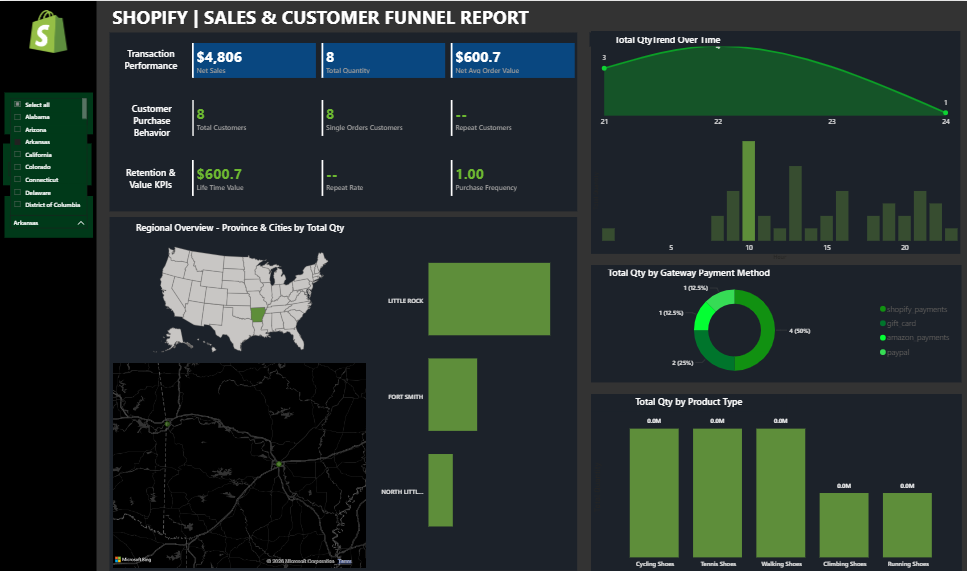

This screenshot's page, from the dashboard's own definition file:
{"tool":"powerbi","page":{"name":"Shopify Anylsis","canvas":[1700,1000],"ordinal":0},"visuals":[{"type":"shape","box":[193.2,379.5,820.5,620.5],"z":0},{"type":"shape","box":[0,0,169.6,1000],"z":1000},{"type":"textbox","box":[193.1,0,751.7,55.2],"z":2000},{"type":"shape","box":[193.1,55.2,820.7,313.8],"z":3000},{"type":"cardVisual","fields":{"Data":["shopify_sales.Net Sales","shopify_sales.Total Quantity","shopify_sales.Net Avg Order Value"]},"box":[336.4,72.7,677.3,61.4],"z":4000},{"type":"card","fields":{"Values":["shopify_sales.Transaction Performance"]},"box":[193.9,66.7,139.4,72.7],"z":5000},{"type":"cardVisual","fields":{"Data":["shopify_sales.Total Customers","shopify_sales.Single Orders Customers","shopify_sales.Repeat Customers"]},"box":[336.4,174.3,678.8,63.6],"z":6000},{"type":"card","fields":{"Values":["shopify_sales.Customer Purchase Behavior"]},"box":[193.9,160.6,142.4,90.9],"z":7000},{"type":"cardVisual","fields":{"Data":["shopify_sales.Life Time Value","shopify_sales.Repeat Rate","shopify_sales.Purchase Frequency"]},"box":[336.4,278.8,678.8,63.6],"z":8000},{"type":"card","fields":{"Values":["shopify_sales.Retention & Value KPIs"]},"box":[202.3,265.9,122.7,90.9],"z":9000},{"type":"slicer","fields":{"Values":["Select Messure.Select Messure"]},"box":[7.1,160.7,155.4,73.2],"z":10000},{"type":"shapeMap","fields":{"Value":["shopify_sales.Net Sales"],"Category":["shopify_sales.Billing Address Province"]},"box":[193.5,415.2,454.3,215.2],"z":11000},{"type":"map","fields":{"Category":["shopify_sales.Location"]},"box":[193.2,629.5,454.5,370.5],"z":12000},{"type":"barChart","fields":{"Y":["shopify_sales.Net Sales"],"Category":["shopify_sales.CITY"]},"box":[647.8,378.3,365.2,621.7],"z":13000},{"type":"card","fields":{"Values":["shopify_sales.Map Title"]},"box":[195.7,380.4,452.2,34.8],"z":14000},{"type":"shape","box":[1037.5,53.6,648.2,391.1],"z":15000},{"type":"areaChart","fields":{"Y":["shopify_sales.Net Sales"],"Category":["shopify_sales.Invoice Date.Variation.Date Hierarchy.Day"]},"box":[1050,65.6,625,159.4],"z":16000},{"type":"columnChart","fields":{"Y":["shopify_sales.Net Sales"],"Category":["shopify_sales.Hour"]},"box":[1039.3,235.7,646.4,217.9],"z":17000},{"type":"card","fields":{"Values":["shopify_sales.Trend Title"]},"box":[1034.1,56.1,273.2,24.4],"z":18000},{"type":"shape","box":[1037.5,462.5,650,206.2],"z":19000},{"type":"donutChart","fields":{"Y":["shopify_sales.Net Sales"],"Category":["shopify_sales.Gateway"]},"box":[1034.4,487.5,646.9,181.2],"z":20000},{"type":"card","fields":{"Values":["shopify_sales.Gateway Title"]},"box":[1036.9,463.1,343.1,24.6],"z":21000},{"type":"shape","box":[1036.9,689.2,650.8,310.8],"z":22000},{"type":"columnChart","fields":{"Y":["shopify_sales.Net Sales"],"Category":["shopify_sales.Product Type"]},"box":[1039,722,648.8,278],"z":23000},{"type":"card","fields":{"Values":["shopify_sales.Product Title"]},"box":[1037.5,689.3,342.9,30.4],"z":24000},{"type":"image","box":[41.5,17.1,85.4,75.6],"z":25000},{"type":"slicer","fields":{"Values":["shopify_sales.Gateway"]},"box":[5.4,250.9,155.4,73.2],"z":26000},{"type":"slicer","fields":{"Values":["shopify_sales.Billing Address Province"]},"box":[7.1,341.1,155.4,73.2],"z":27000}]}

Visuals, with their boxes on the page's 1700x1000 design canvas (x1, y1, x2, y2). These are canvas units, not pixel positions in the 967x571 screenshot, which may show the page scaled, cropped or inside an application window:
shape: left=193, top=380, right=1014, bottom=1000
shape: left=0, top=0, right=170, bottom=1000
textbox: left=193, top=0, right=945, bottom=55
shape: left=193, top=55, right=1014, bottom=369
cardVisual - shopify_sales.Net Sales x shopify_sales.Total Quantity: left=336, top=73, right=1014, bottom=134
card - shopify_sales.Transaction Performance: left=194, top=67, right=333, bottom=139
cardVisual - shopify_sales.Total Customers x shopify_sales.Single Orders Customers: left=336, top=174, right=1015, bottom=238
card - shopify_sales.Customer Purchase Behavior: left=194, top=161, right=336, bottom=252
cardVisual - shopify_sales.Life Time Value x shopify_sales.Repeat Rate: left=336, top=279, right=1015, bottom=342
card - shopify_sales.Retention & Value KPIs: left=202, top=266, right=325, bottom=357
slicer - Select Messure.Select Messure: left=7, top=161, right=162, bottom=234
shapeMap - shopify_sales.Net Sales x shopify_sales.Billing Address Province: left=194, top=415, right=648, bottom=630
map - shopify_sales.Location: left=193, top=630, right=648, bottom=1000
barChart - shopify_sales.Net Sales x shopify_sales.CITY: left=648, top=378, right=1013, bottom=1000
card - shopify_sales.Map Title: left=196, top=380, right=648, bottom=415
shape: left=1038, top=54, right=1686, bottom=445
areaChart - shopify_sales.Net Sales x shopify_sales.Invoice Date.Variation.Date Hierarchy.Day: left=1050, top=66, right=1675, bottom=225
columnChart - shopify_sales.Net Sales x shopify_sales.Hour: left=1039, top=236, right=1686, bottom=454
card - shopify_sales.Trend Title: left=1034, top=56, right=1307, bottom=80
shape: left=1038, top=462, right=1688, bottom=669
donutChart - shopify_sales.Net Sales x shopify_sales.Gateway: left=1034, top=488, right=1681, bottom=669
card - shopify_sales.Gateway Title: left=1037, top=463, right=1380, bottom=488
shape: left=1037, top=689, right=1688, bottom=1000
columnChart - shopify_sales.Net Sales x shopify_sales.Product Type: left=1039, top=722, right=1688, bottom=1000
card - shopify_sales.Product Title: left=1038, top=689, right=1380, bottom=720
image: left=42, top=17, right=127, bottom=93
slicer - shopify_sales.Gateway: left=5, top=251, right=161, bottom=324
slicer - shopify_sales.Billing Address Province: left=7, top=341, right=162, bottom=414
